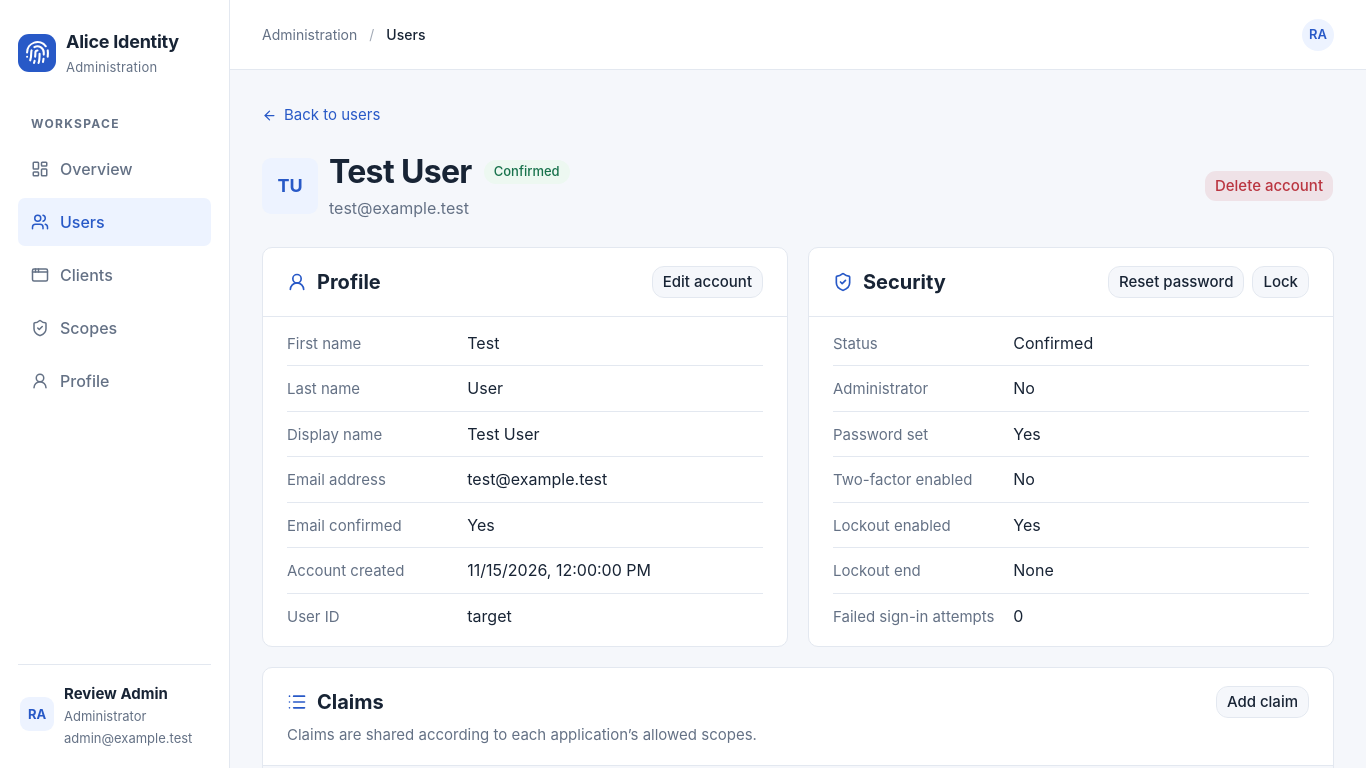
Test: claim assignment › adds and removes the selected row with CSRF, version and escaped claim text
Step 1. Click the button "Add claim" → point(1262, 702), box [1216, 686, 1309, 718]
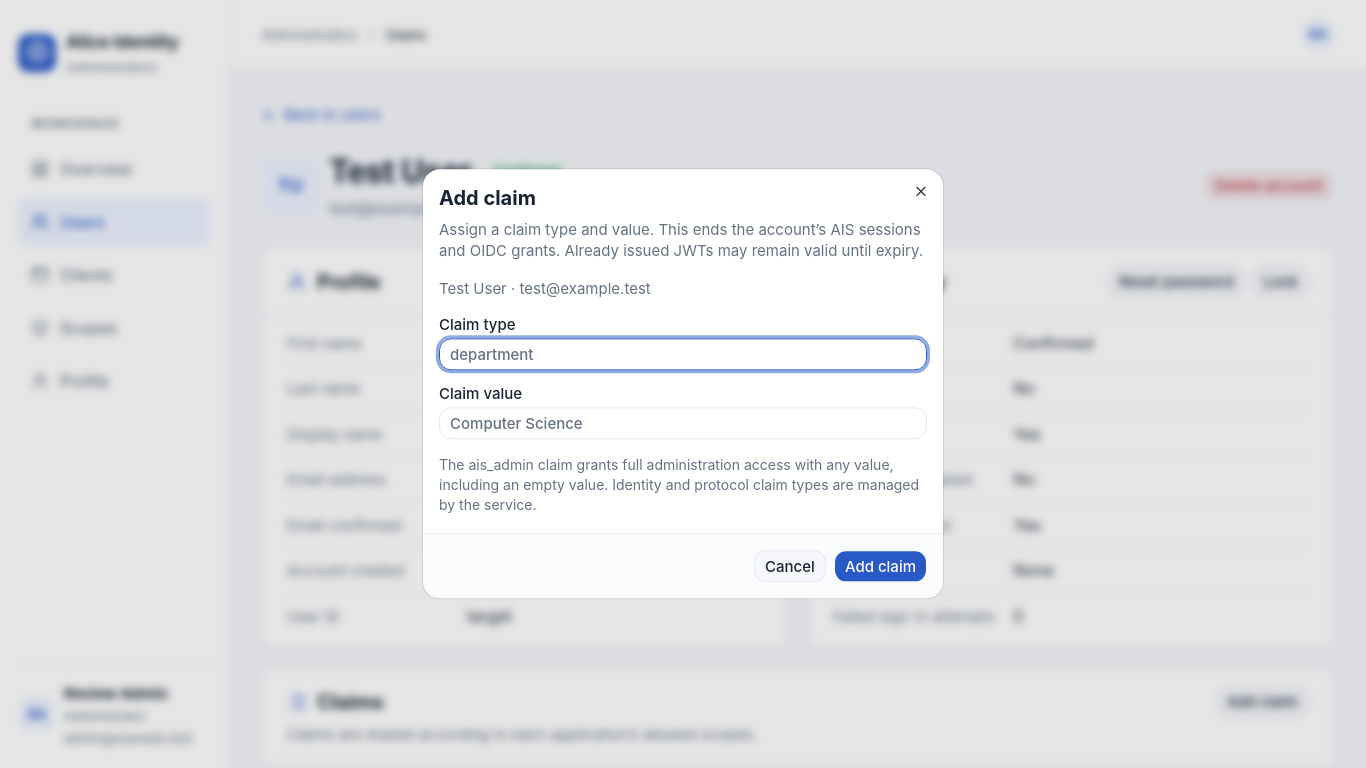
Step 2. Type "role" into the field labelled "Claim type" → point(683, 355), box [439, 339, 927, 371]
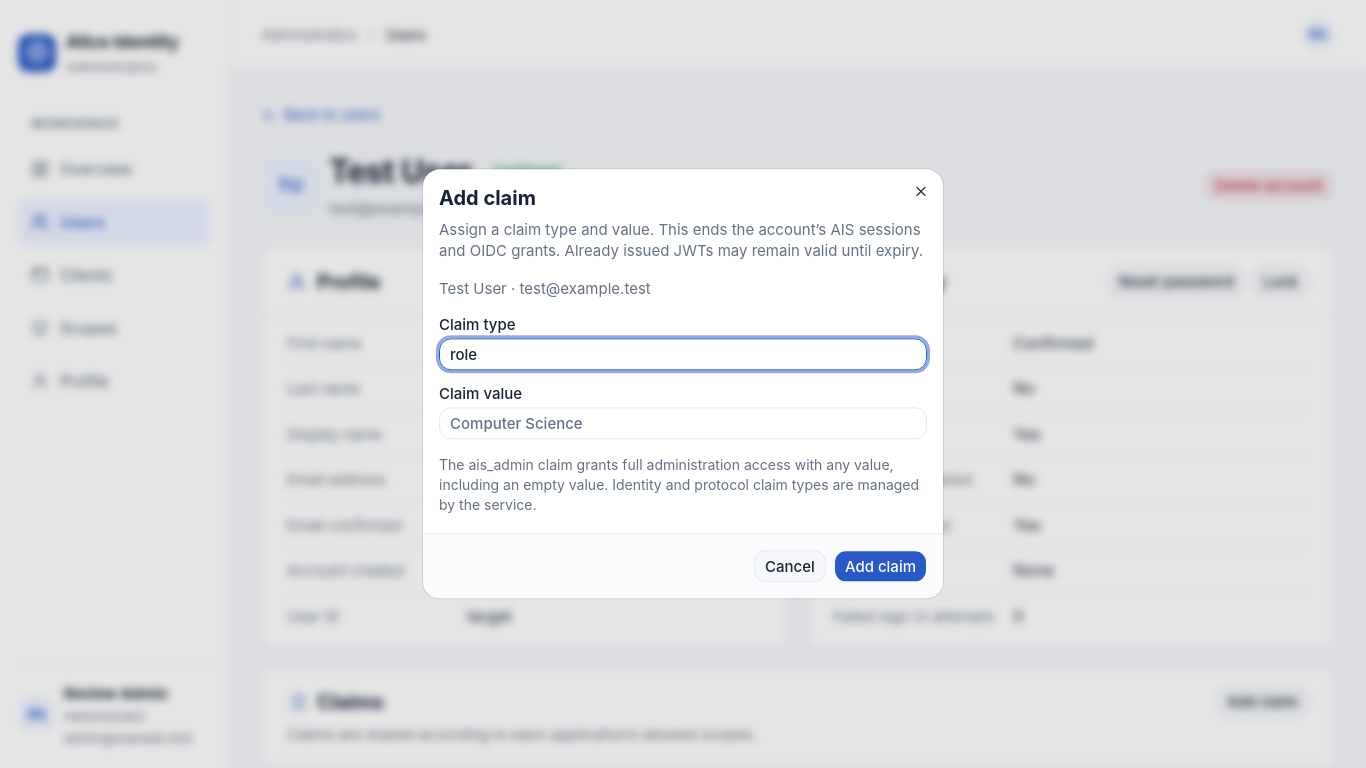
Step 3. Type "faculty" into the field labelled "Claim value" → point(683, 424), box [439, 408, 927, 440]
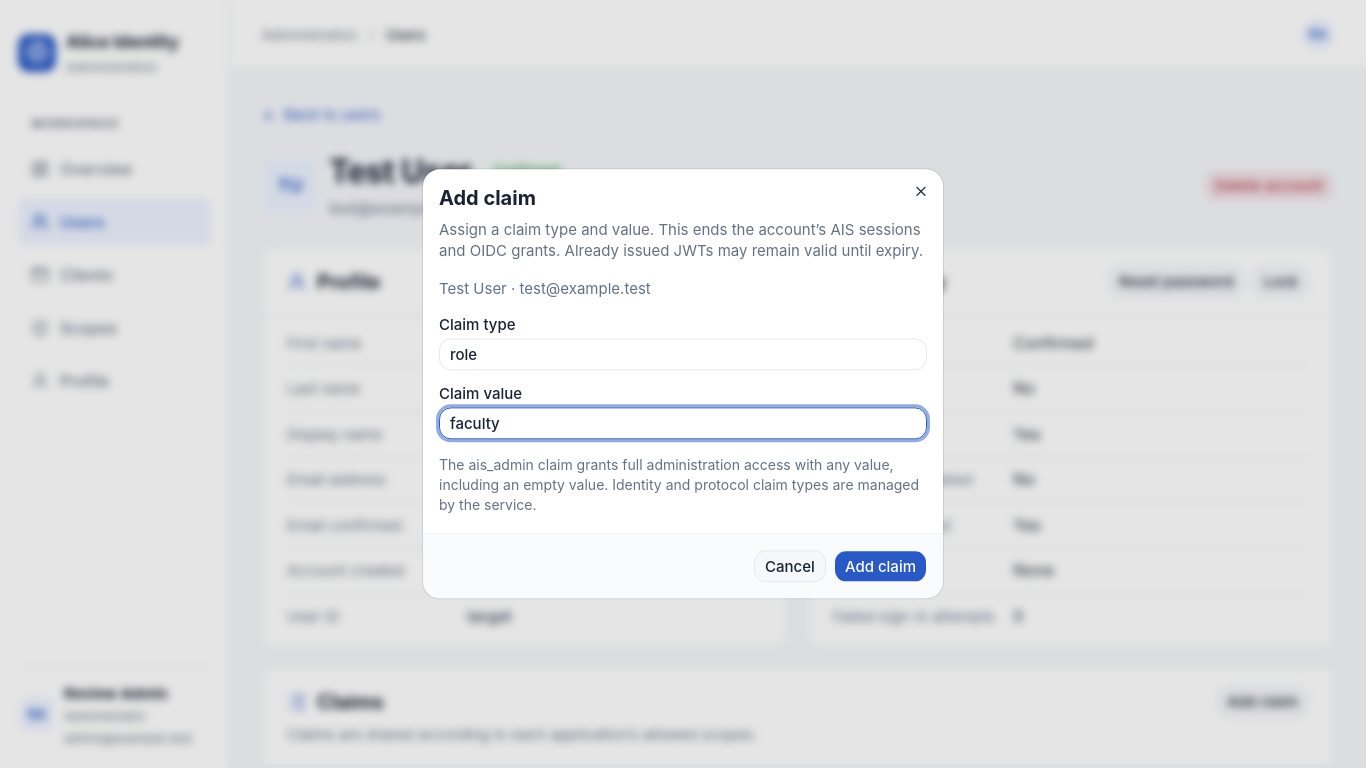
Step 4. Click the button "Add claim" → point(880, 567), box [834, 551, 927, 583]
(page scrolled)
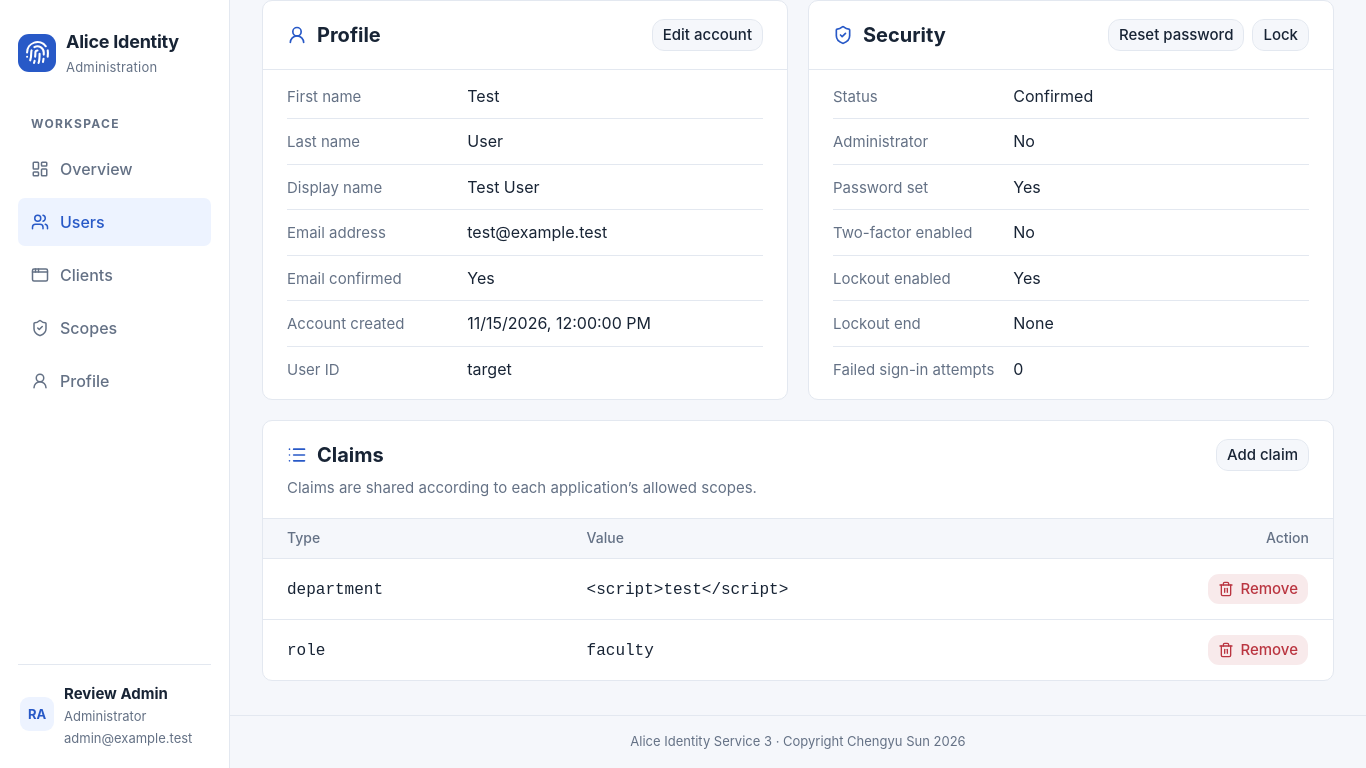
Result: the text "faculty" is shown at [587, 642, 654, 660]
Step 5. Click the button with aria-label "Remove claim" → point(1258, 650), box [1207, 634, 1309, 666]
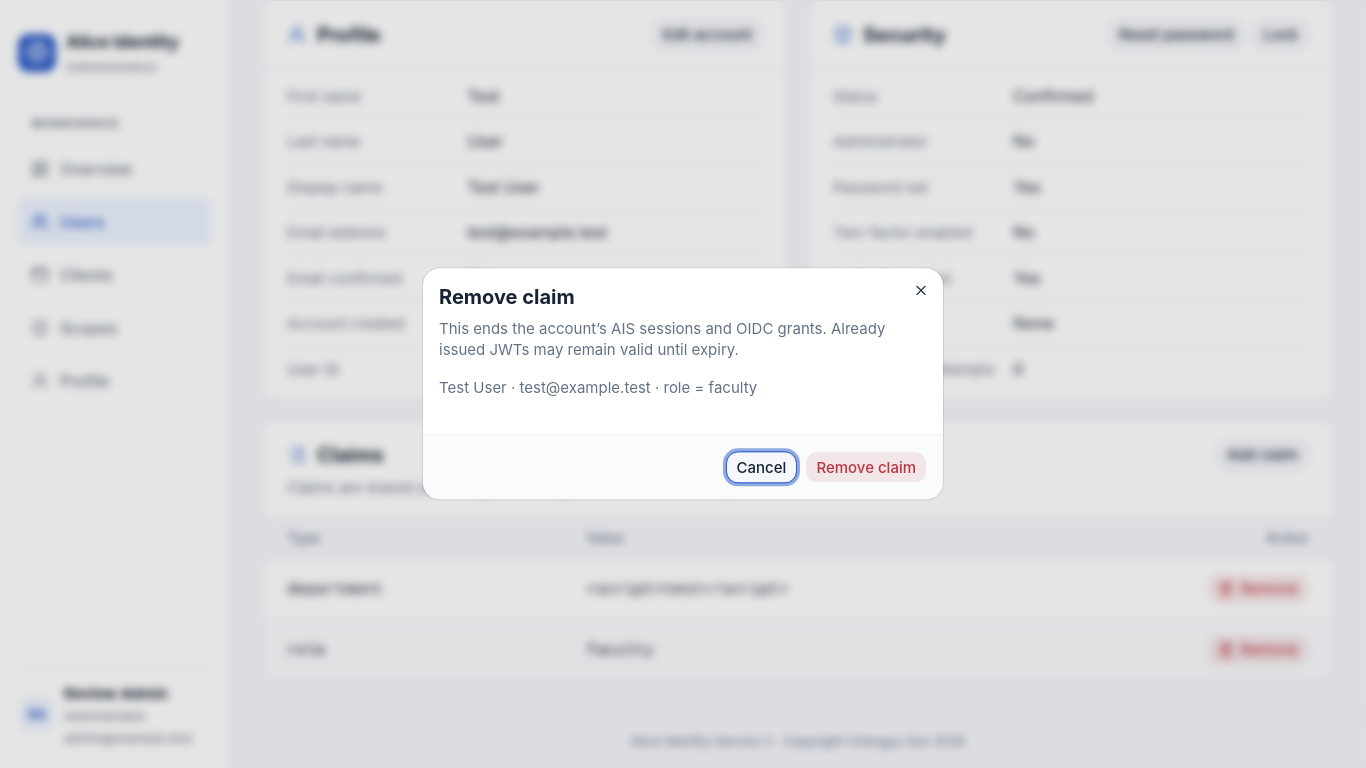
Result: the text "Test User · test@example.test · role = faculty" is shown at [439, 378, 757, 397]
Step 6. Click the button "Remove claim" → point(866, 468), box [805, 452, 927, 484]
(page scrolled)
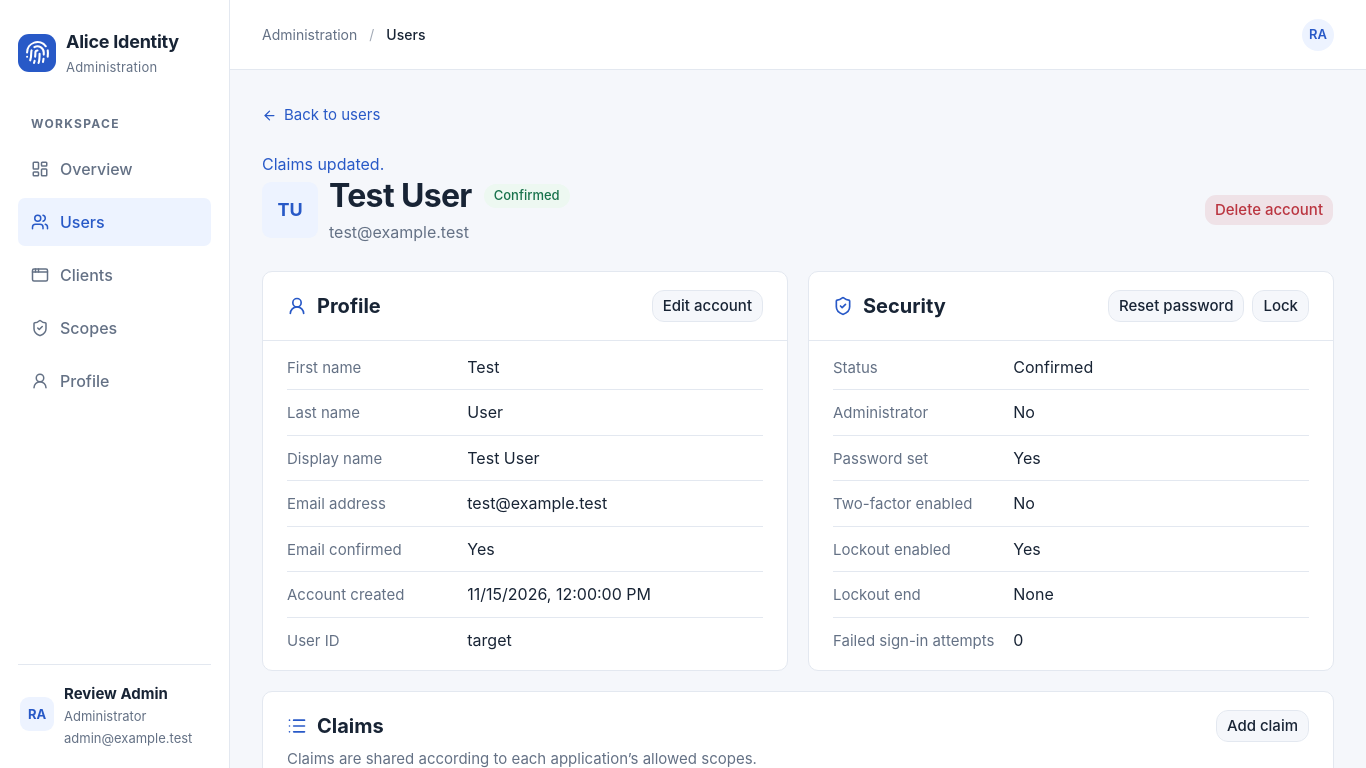
Result: the text "faculty" is gone
